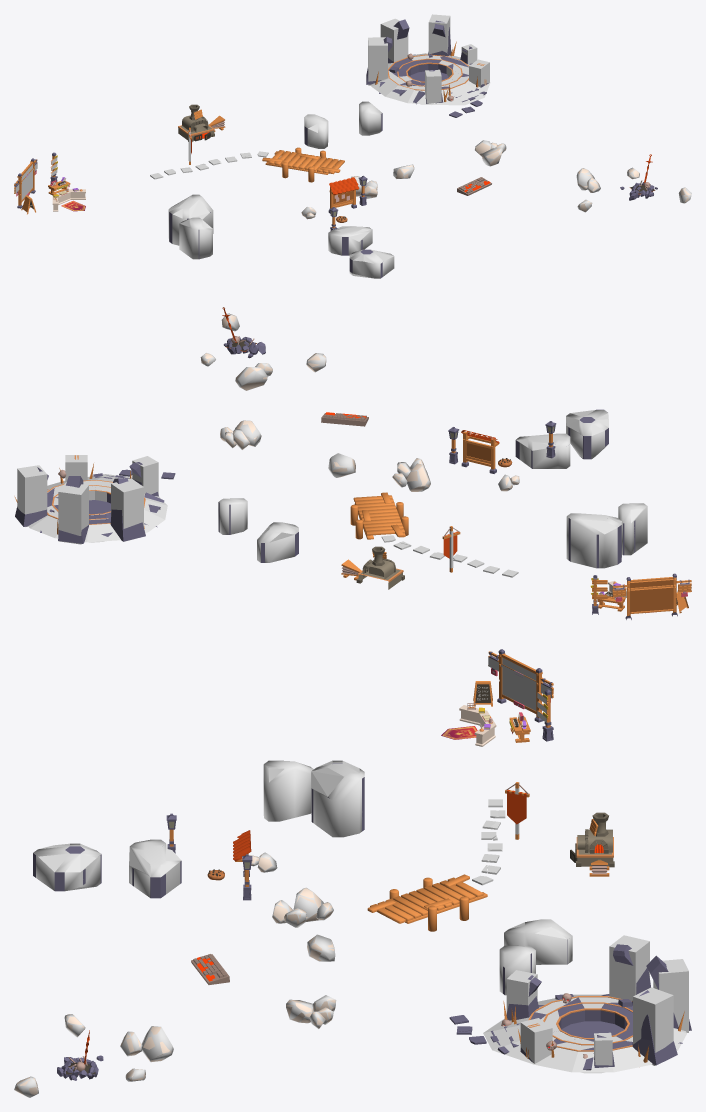
File: sceneryStatic.glb
3 renders of one model, top to bottom at view 1: azimuth 30°, elevation 25°; view 2: azimuth 150°, elevation 25°; view 3: azimuth 270°, elevation 25°, orthographic. The views are drawn at different scales.
Parts seen in each view (by area): view 1: trimesh.001, Cube.139, hull.016, hull.015, Cylinder.021, hull.011, hull.012, Cube.165, Cube.172, hull.014, Cube.164, Cube.146 (+6 smaller); view 2: hull.015, trimesh.001, Cube.139, Cube.172, hull.012, Cube.164, hull.011, Cube.146, Cylinder.022, hull.016, Cube.165, hull.014 (+13 smaller); view 3: trimesh.001, hull.015, Cube.139, hull.016, Cube.172, Cylinder.021, hull.011, hull.014, hull.012, Cube.146, Cube.165, Cube.164 (+11 smaller).
Boxes of the visible parts, x1,y1,x2,y2 form: trimesh.001: (371, 53, 490, 105); Cube.139: (262, 147, 344, 182); hull.016: (179, 217, 212, 259); hull.015: (168, 194, 213, 245); Cylinder.021: (388, 56, 486, 102); hull.011: (349, 249, 394, 278); hull.012: (328, 226, 372, 255); Cube.165: (368, 37, 387, 85); Cube.172: (366, 19, 472, 103); hull.014: (304, 114, 328, 148); Cube.164: (380, 18, 408, 62); Cube.146: (428, 14, 450, 54); hull.015: (566, 513, 621, 568); trimesh.001: (28, 474, 167, 542); Cube.139: (350, 492, 408, 539); Cube.172: (15, 462, 158, 543); hull.012: (516, 433, 570, 468); Cube.164: (58, 482, 88, 544); hull.011: (566, 410, 608, 459); Cube.146: (17, 465, 47, 526); Cylinder.022: (218, 409, 635, 568); hull.016: (618, 503, 647, 555); Cube.165: (111, 478, 143, 541); hull.014: (257, 522, 298, 562); trimesh.001: (483, 994, 686, 1073); hull.015: (311, 760, 364, 837); Cube.139: (367, 874, 487, 931); hull.016: (263, 760, 313, 821); Cube.172: (506, 944, 691, 1067); Cylinder.021: (490, 997, 632, 1054); hull.011: (33, 843, 101, 891); hull.014: (504, 919, 572, 964); hull.012: (129, 839, 181, 897); Cube.146: (633, 987, 673, 1065); Cube.165: (609, 935, 649, 1001); Cube.164: (653, 959, 688, 1032).
Size of the model in its own units: 69.21 by 8.2 by 50.04.
Materials: 24 (3 with a texture image).
